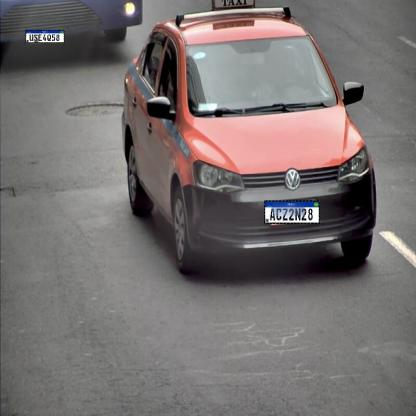PlacaM: (264, 200, 320, 224), (26, 30, 64, 43)
